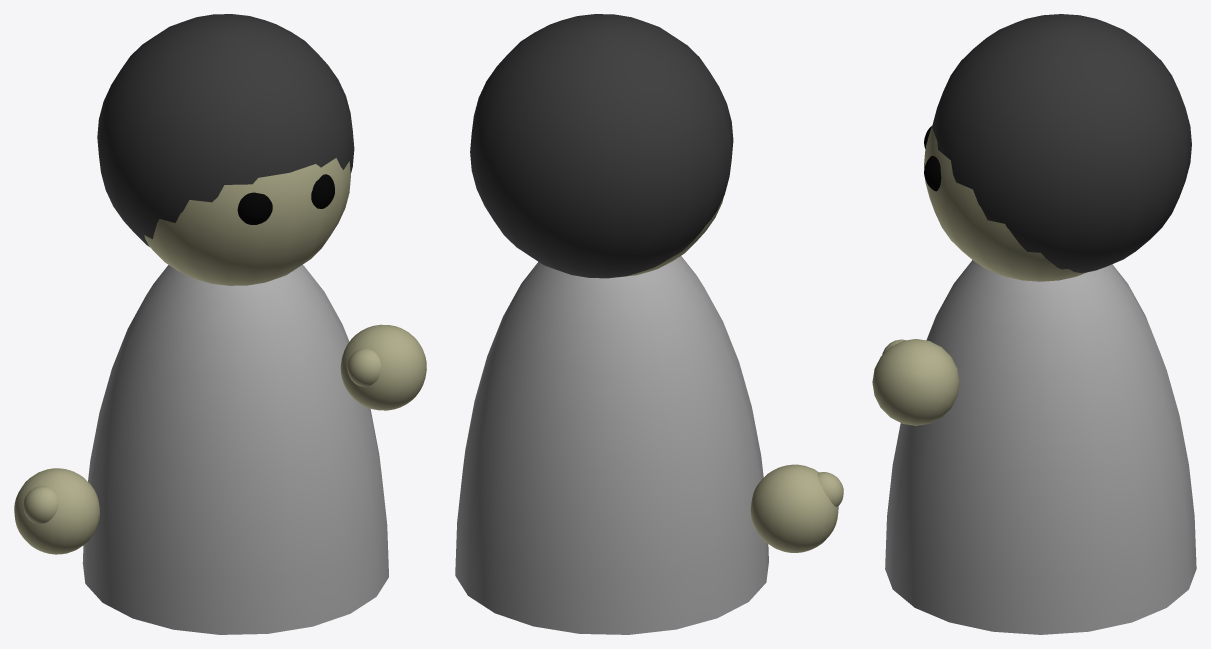
File: PersonPawn_04.fbx
The picture shows the model from 3 angles, left to right: view 1: azimuth 30°, elevation 25°; view 2: azimuth 150°, elevation 25°; view 3: azimuth 270°, elevation 25°; orthographic projection. The views are drawn at different scales.
Visible parts, largest first — view 1: group6; view 2: group6; view 3: group6.
Boxes of the visible parts, left/top/right/bottom form: group6: left=14, top=14, right=426, bottom=634; group6: left=455, top=14, right=843, bottom=634; group6: left=872, top=14, right=1196, bottom=634.
Bounding box in the file's own units: 95.28 × 75.55 × 140.
